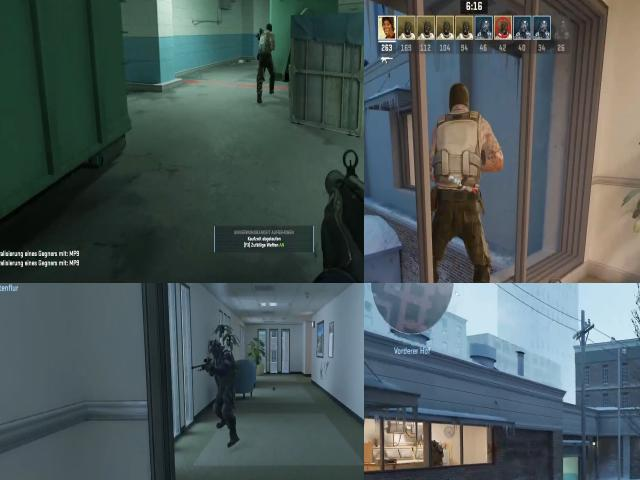CT: (431, 439, 442, 464)
CT-Head: (202, 337, 238, 402), (206, 336, 228, 367), (431, 438, 438, 447)
T: (426, 98, 499, 207), (258, 15, 276, 66)
T-Head: (442, 79, 476, 120), (263, 20, 274, 34)
